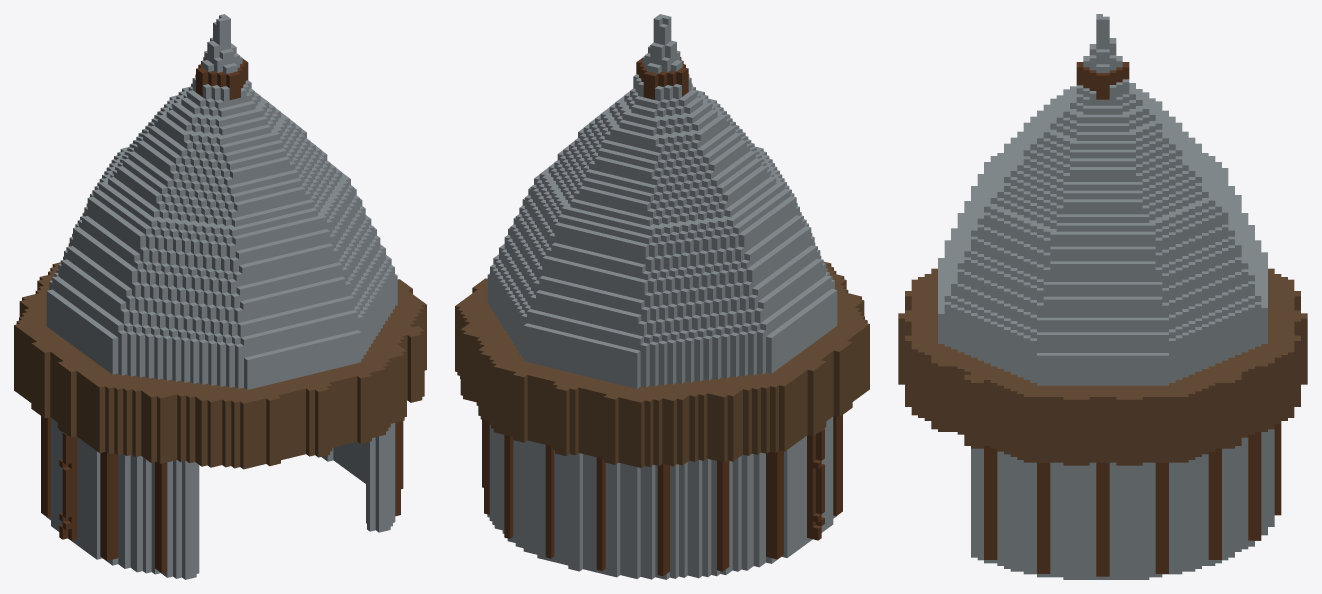
Rendered from helmet_conical.glb.
The picture shows the model from 3 angles, left to right: view 1: azimuth 30°, elevation 25°; view 2: azimuth 150°, elevation 25°; view 3: azimuth 270°, elevation 25°; orthographic projection.
Visible parts, largest first — view 1: helmet_conical:compound; view 2: helmet_conical:compound; view 3: helmet_conical:compound.
Part boxes in pixels (x1=…): helmet_conical:compound: x1=14, y1=14, x2=426, y2=579; helmet_conical:compound: x1=455, y1=14, x2=869, y2=579; helmet_conical:compound: x1=898, y1=14, x2=1307, y2=579.
Bounding box in the file's own units: 0.24 × 0.328 × 0.248.
